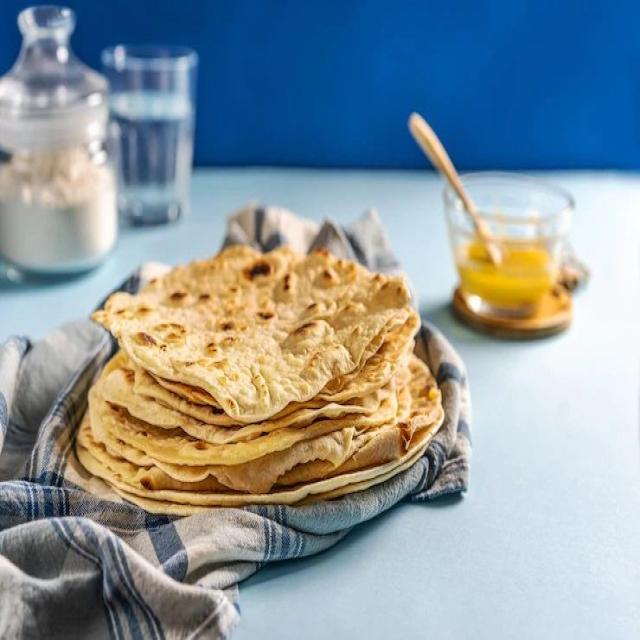ROTI: (75, 248, 438, 505), (85, 243, 419, 464), (93, 245, 418, 433), (99, 243, 409, 405)
